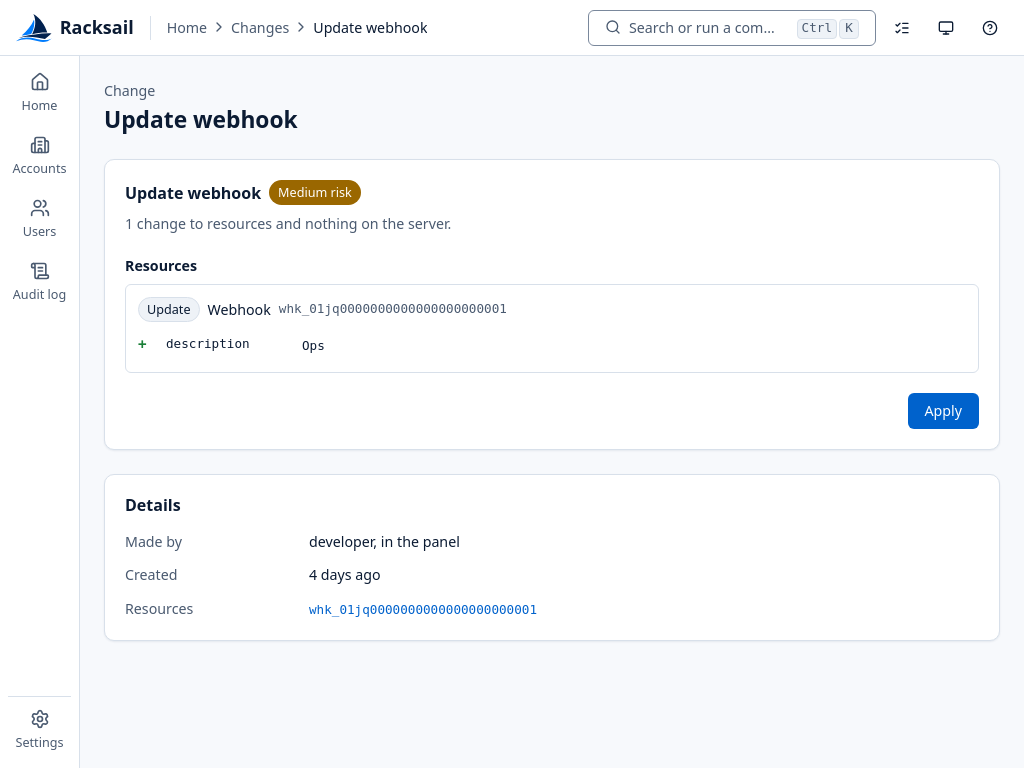
Test case: the changes screens › show what a kept preview would do now, to apply that instead
This screenshot has width=1024, height=768.
Expected: the 1st heading "Update webhook" is shown, [104,104,298,135]
Click the button "Apply".
click(943, 411)  # box [908,393,979,429]
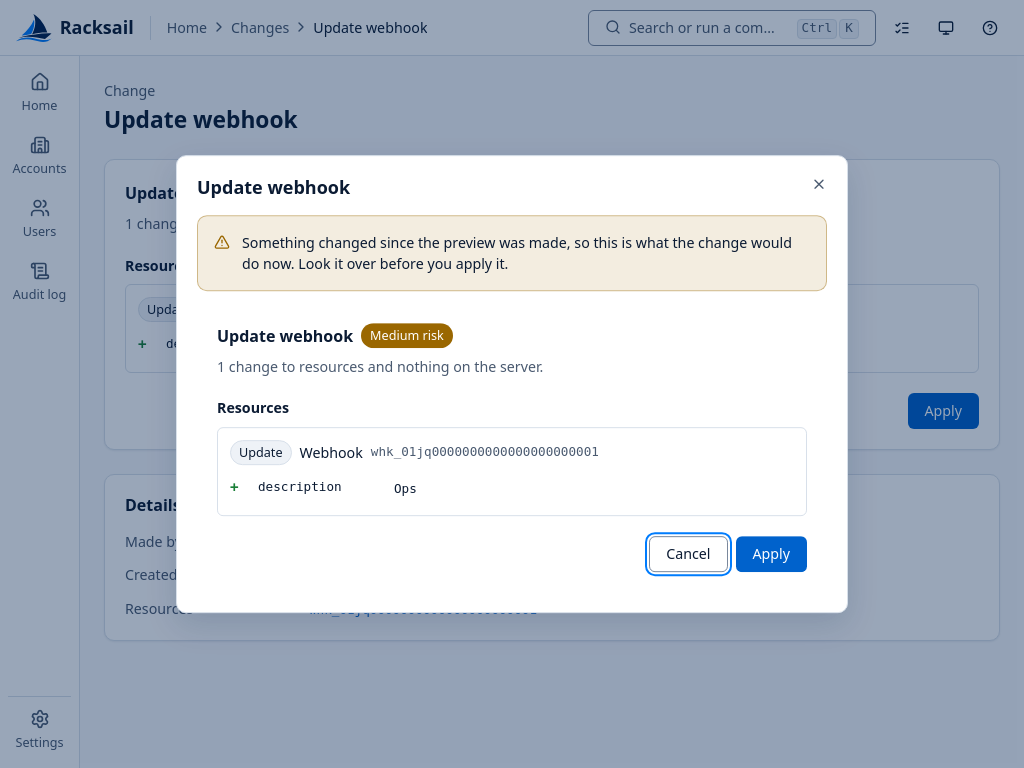
Expected: the text "Something changed since the preview was made" is shown, [242,233,792,273]
Click the button "Apply".
click(771, 554)  # box [736,536,807,572]
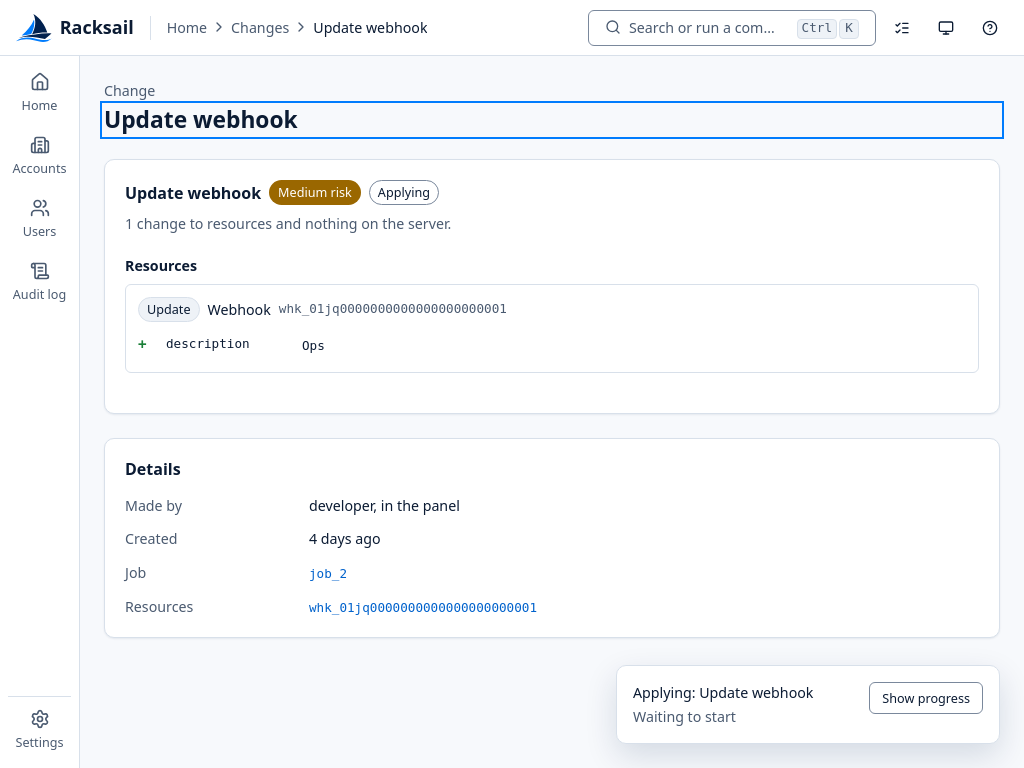
Expected: the dialog is gone
